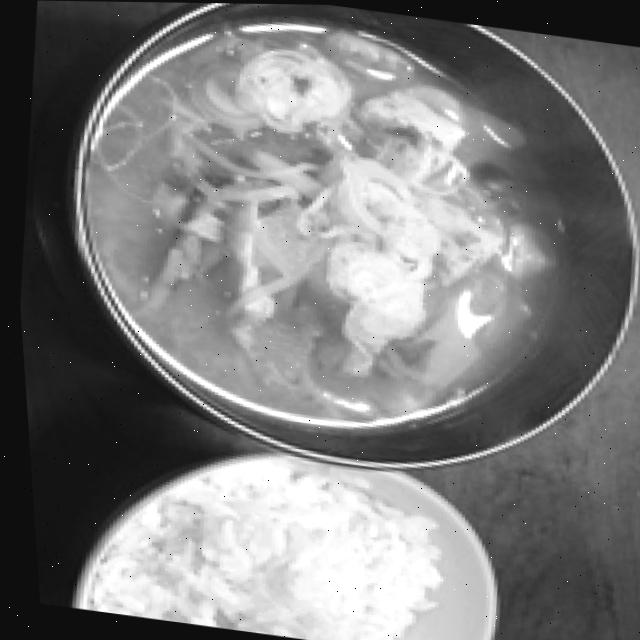米饭主食: (31, 412, 527, 640)
